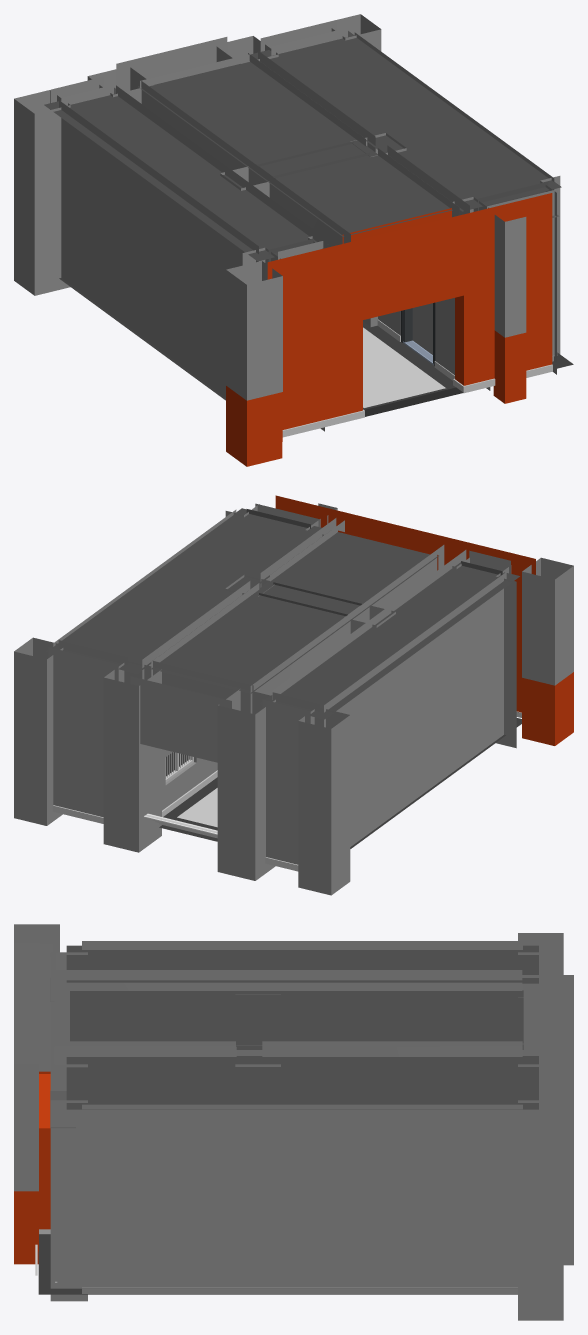
Rendered from SM_H_Building_Tide_Loungehall_20_ATLAS.fbx.
The picture shows the model from 3 angles, top to bottom: view 1: azimuth 30°, elevation 25°; view 2: azimuth 150°, elevation 25°; view 3: azimuth 270°, elevation 25°; orthographic projection. The views are drawn at different scales.
Visible parts, largest first — view 1: SM_H_Building_Tide_Loungehall_20_ATLAS; view 2: SM_H_Building_Tide_Loungehall_20_ATLAS; view 3: SM_H_Building_Tide_Loungehall_20_ATLAS.
Boxes of the visible parts, left/top/right/bottom form: SM_H_Building_Tide_Loungehall_20_ATLAS: left=14, top=14, right=573, bottom=466; SM_H_Building_Tide_Loungehall_20_ATLAS: left=14, top=495, right=573, bottom=895; SM_H_Building_Tide_Loungehall_20_ATLAS: left=14, top=924, right=573, bottom=1320.
Bounding box in the file's own units: 1180 × 1428 × 589.
